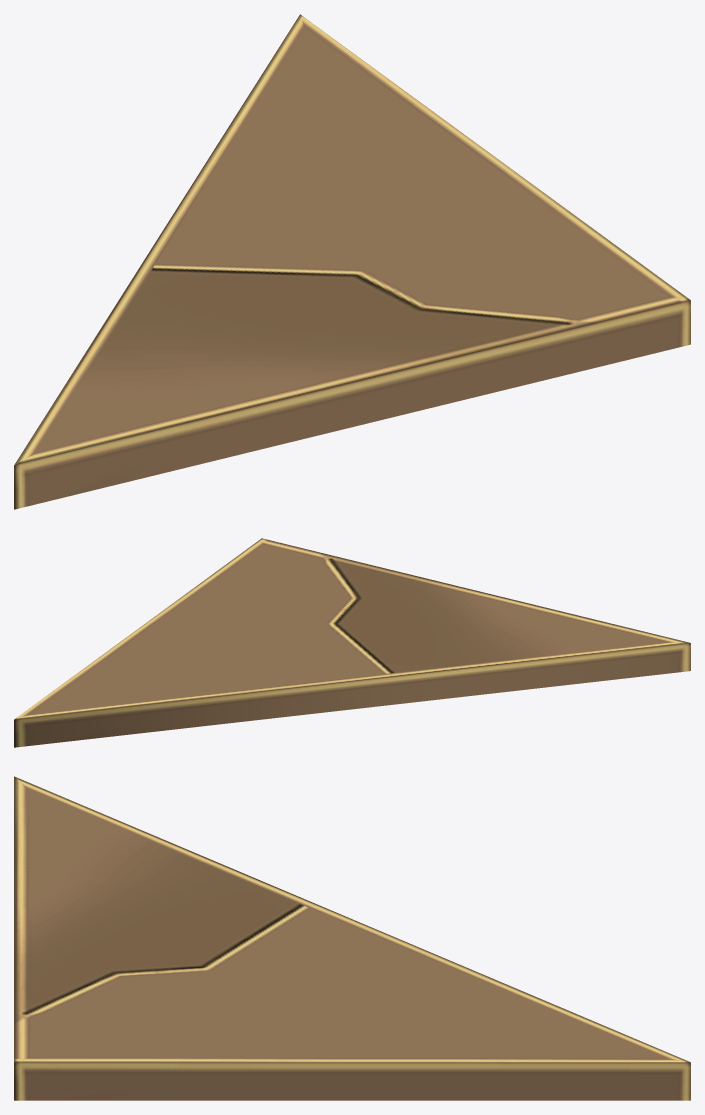
File: egypt_half_floor.gltf
The picture shows the model from 3 angles, top to bottom: view 1: azimuth 30°, elevation 25°; view 2: azimuth 150°, elevation 25°; view 3: azimuth 270°, elevation 25°; orthographic projection. The views are drawn at different scales.
Parts seen in each view (by area): view 1: egypt_half_half_floor_glb; view 2: egypt_half_half_floor_glb; view 3: egypt_half_half_floor_glb.
Boxes of the visible parts, <box> form: egypt_half_half_floor_glb: <box>14,14,690,509</box>; egypt_half_half_floor_glb: <box>14,538,690,747</box>; egypt_half_half_floor_glb: <box>14,776,690,1100</box>.
Size of what is drawn, in the model's own units: 4 by 0.25 by 4.
Materials: 1 (1 with a texture image).
